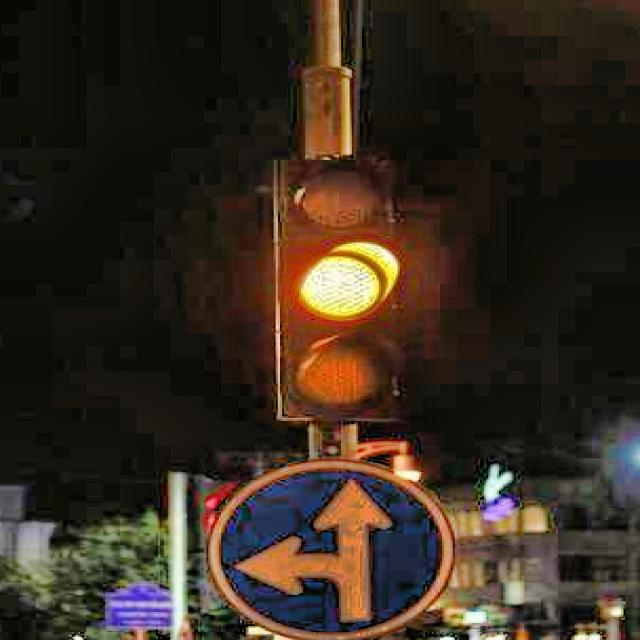yellow: (275, 163, 409, 424)
